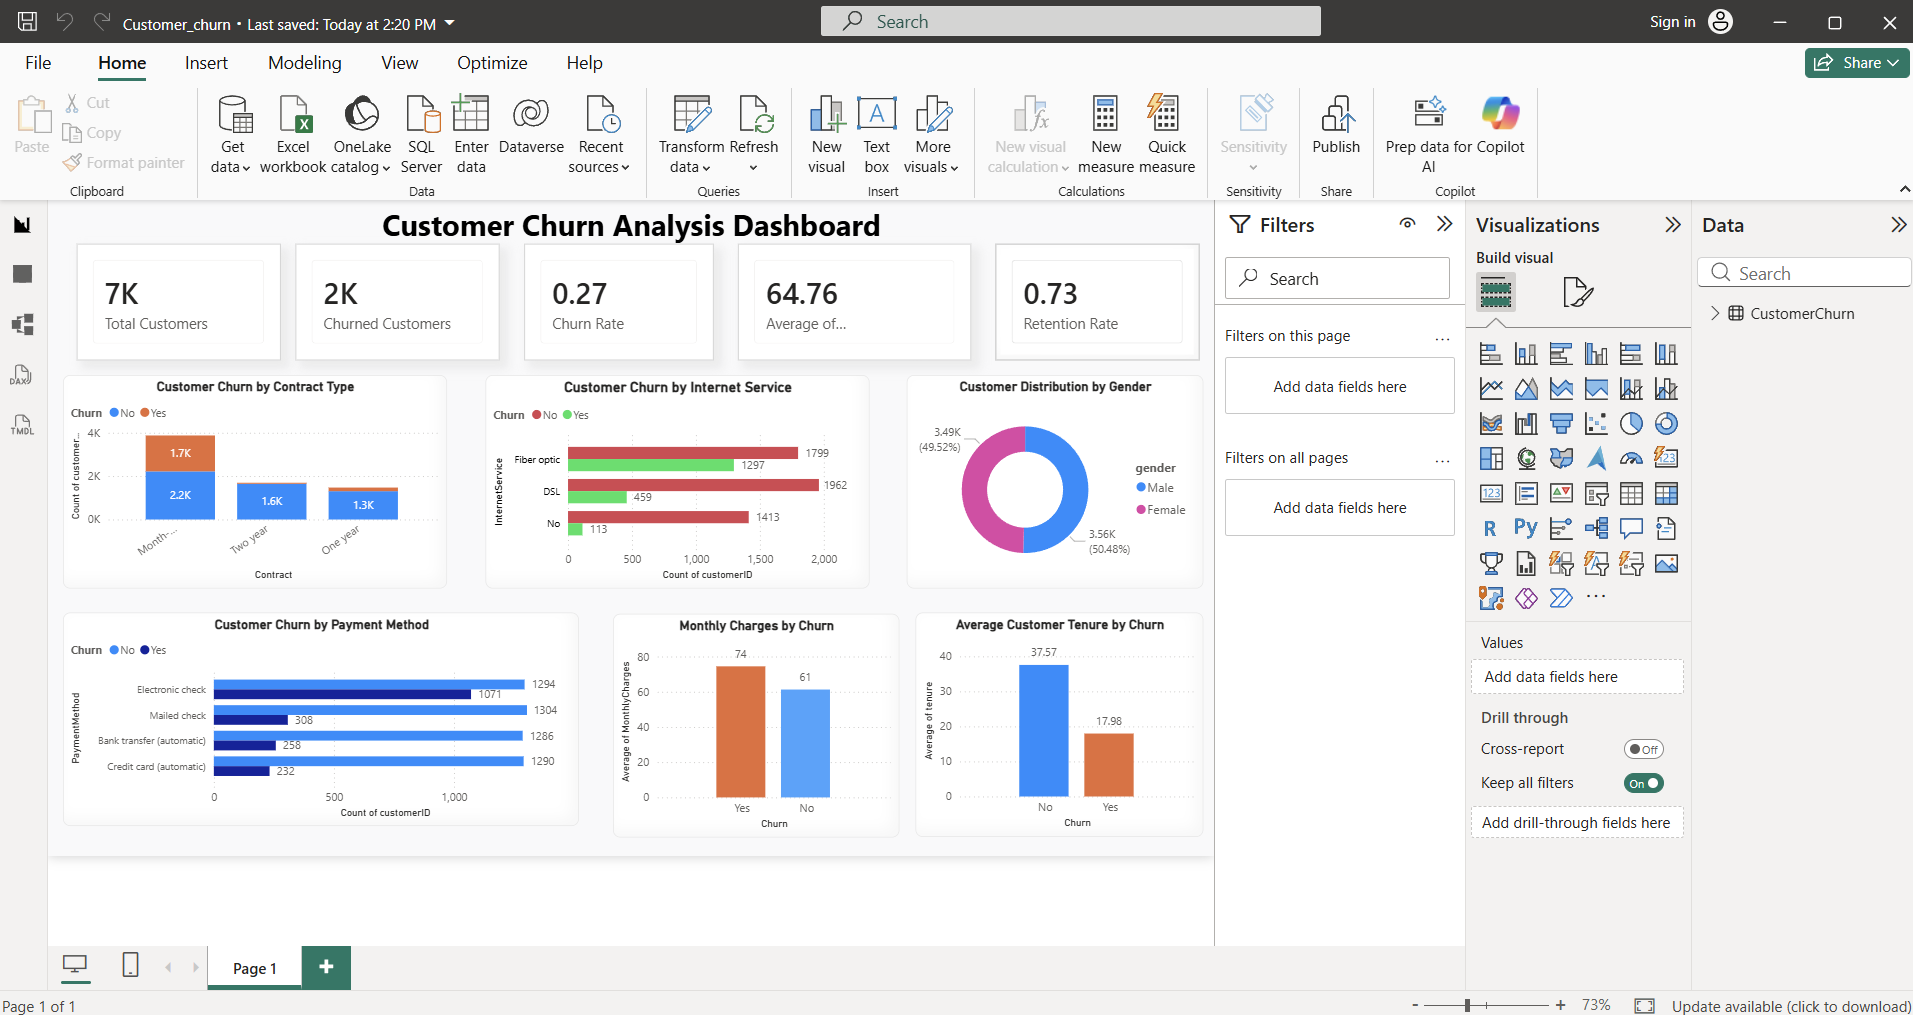

This screenshot's page, from the dashboard's own definition file:
{"tool":"powerbi","page":{"name":"Page 1","canvas":[1280,720],"ordinal":0},"visuals":[{"type":"cardVisual","fields":{"Data":["CustomerChurn.Total Customers"]},"box":[32,48,224,128],"z":0},{"type":"cardVisual","fields":{"Data":["CustomerChurn.Churned Customers"]},"box":[272,48,224,128],"z":1000},{"type":"cardVisual","fields":{"Data":["CustomerChurn.Churn Rate"]},"box":[522.7,48,208,128],"z":2000},{"type":"cardVisual","fields":{"Data":["Avg(CustomerChurn.MonthlyCharges)"]},"box":[757.3,48,256,128],"z":3000},{"type":"columnChart","title":"Customer Churn by Contract Type","fields":{"Category":["CustomerChurn.Contract"],"Series":["CustomerChurn.Churn"],"Y":["CountNonNull(CustomerChurn.customerID)"]},"box":[16.5,192.1,421.3,234.6],"z":4000},{"type":"clusteredBarChart","title":"Customer Churn by Internet Service","fields":{"Category":["CustomerChurn.InternetService"],"Series":["CustomerChurn.Churn"],"Y":["CountNonNull(CustomerChurn.customerID)"]},"box":[480.3,192.1,421.3,234.6],"z":5000},{"type":"clusteredBarChart","title":"Customer Churn by Payment Method","fields":{"Category":["CustomerChurn.PaymentMethod"],"Series":["CustomerChurn.Churn"],"Y":["CountNonNull(CustomerChurn.customerID)"]},"box":[16.5,452.8,566.7,234.6],"z":6000},{"type":"donutChart","title":"Customer Distribution by Gender","fields":{"Category":["CustomerChurn.gender"],"Y":["CountNonNull(CustomerChurn.customerID)"]},"box":[942.7,192.1,325.2,234.6],"z":7000},{"type":"clusteredColumnChart","title":"Monthly Charges by Churn","fields":{"Category":["CustomerChurn.Churn"],"Y":["Avg(CustomerChurn.MonthlyCharges)"]},"box":[620.2,454.2,314.2,245.6],"z":8000},{"type":"clusteredColumnChart","title":"Average Customer Tenure by Churn","fields":{"Category":["CustomerChurn.Churn"],"Y":["Avg(CustomerChurn.tenure)"]},"box":[953,453,316,246],"z":9000},{"type":"cardVisual","fields":{"Data":["CustomerChurn.Retention Rate"]},"box":[1040,48,224,128],"z":10000},{"type":"textbox","box":[352,0,576,64],"z":11000}]}

Visuals, with their boxes on the page's 1280x720 design canvas (x1, y1, x2, y2). These are canvas units, not pixel positions in the 1913x1015 screenshot, which may show the page scaled, cropped or inside an application window:
cardVisual - CustomerChurn.Total Customers: 32,48,256,176
cardVisual - CustomerChurn.Churned Customers: 272,48,496,176
cardVisual - CustomerChurn.Churn Rate: 523,48,731,176
cardVisual - Avg(CustomerChurn.MonthlyCharges): 757,48,1013,176
"Customer Churn by Contract Type" columnChart: 16,192,438,427
"Customer Churn by Internet Service" clusteredBarChart: 480,192,902,427
"Customer Churn by Payment Method" clusteredBarChart: 16,453,583,687
"Customer Distribution by Gender" donutChart: 943,192,1268,427
"Monthly Charges by Churn" clusteredColumnChart: 620,454,934,700
"Average Customer Tenure by Churn" clusteredColumnChart: 953,453,1269,699
cardVisual - CustomerChurn.Retention Rate: 1040,48,1264,176
textbox: 352,0,928,64
